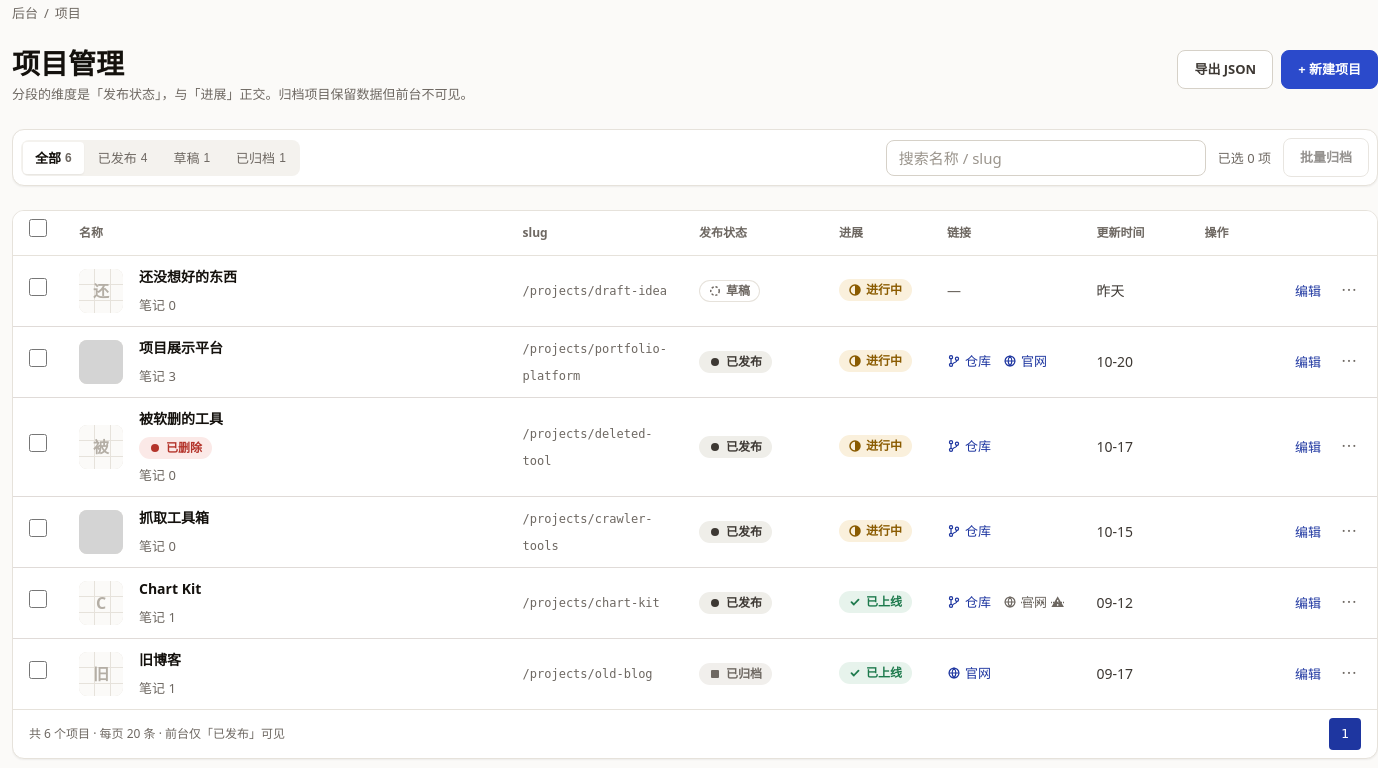
Scenario: ProjectListView › 搜索框 placeholder、已选项计数与批量归档入口在分段条右侧
Expected: the link "项目展示平台" is shown, [139, 334, 223, 360]
Expected: the search field with placeholder "搜索名称 / slug" is shown, [886, 140, 1206, 176]
Click the checkbox named "选择 项目展示平台" at (38, 358), box [29, 348, 47, 366]
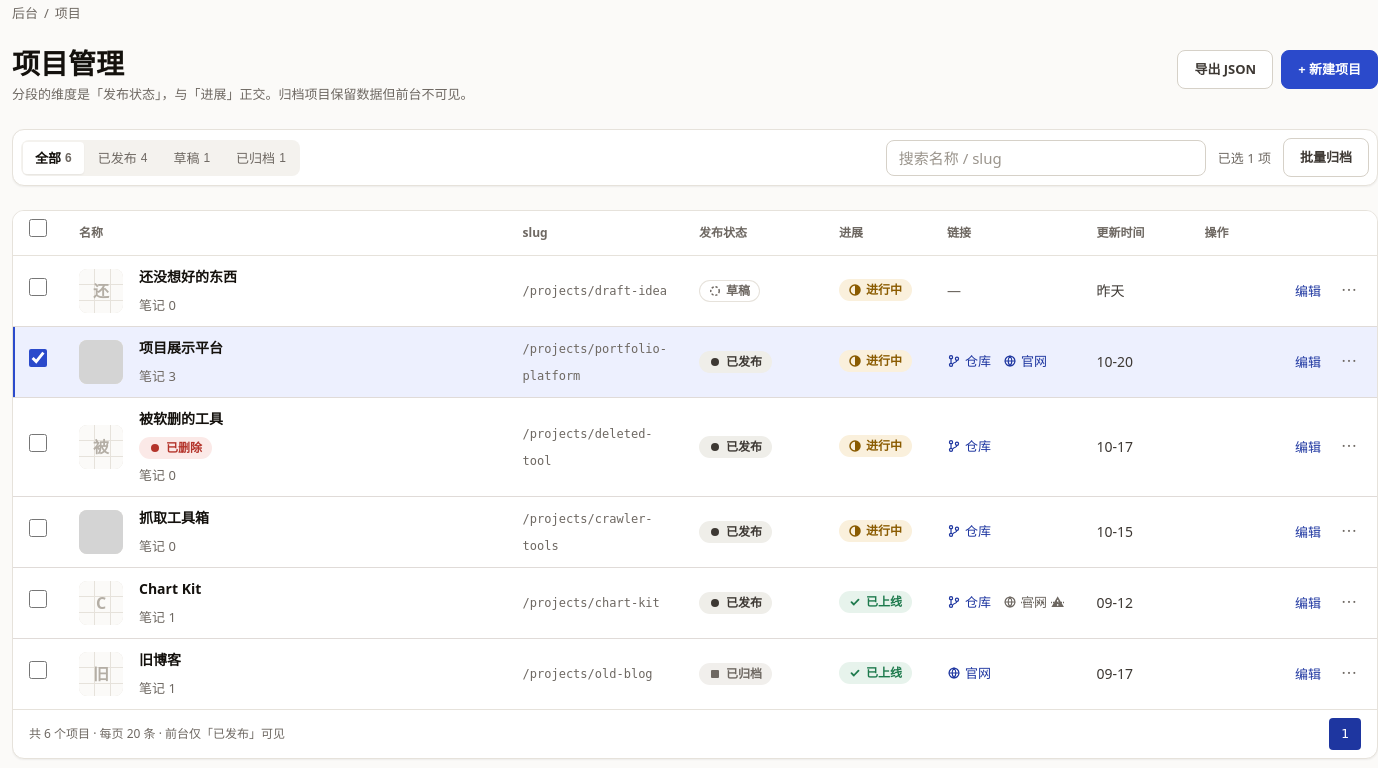
Expected: the text "已选 1 项" is shown, [1218, 144, 1271, 170]
Expected: the button "批量归档" is enabled, [1283, 138, 1369, 177]
